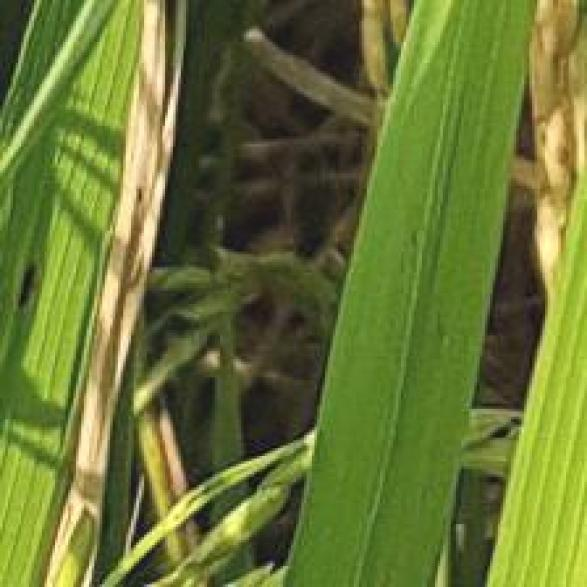Bacteria_Leaf_Blight: (92, 5, 183, 414)
